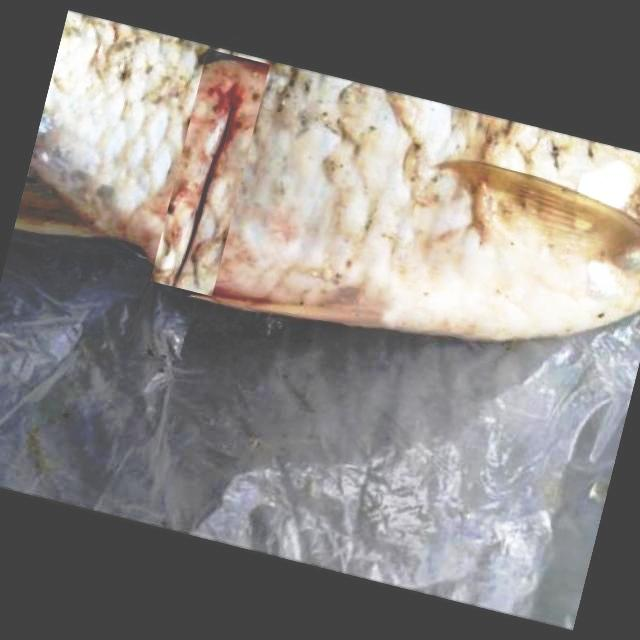Aeromonas Septicemia: (13, 12, 640, 342)
